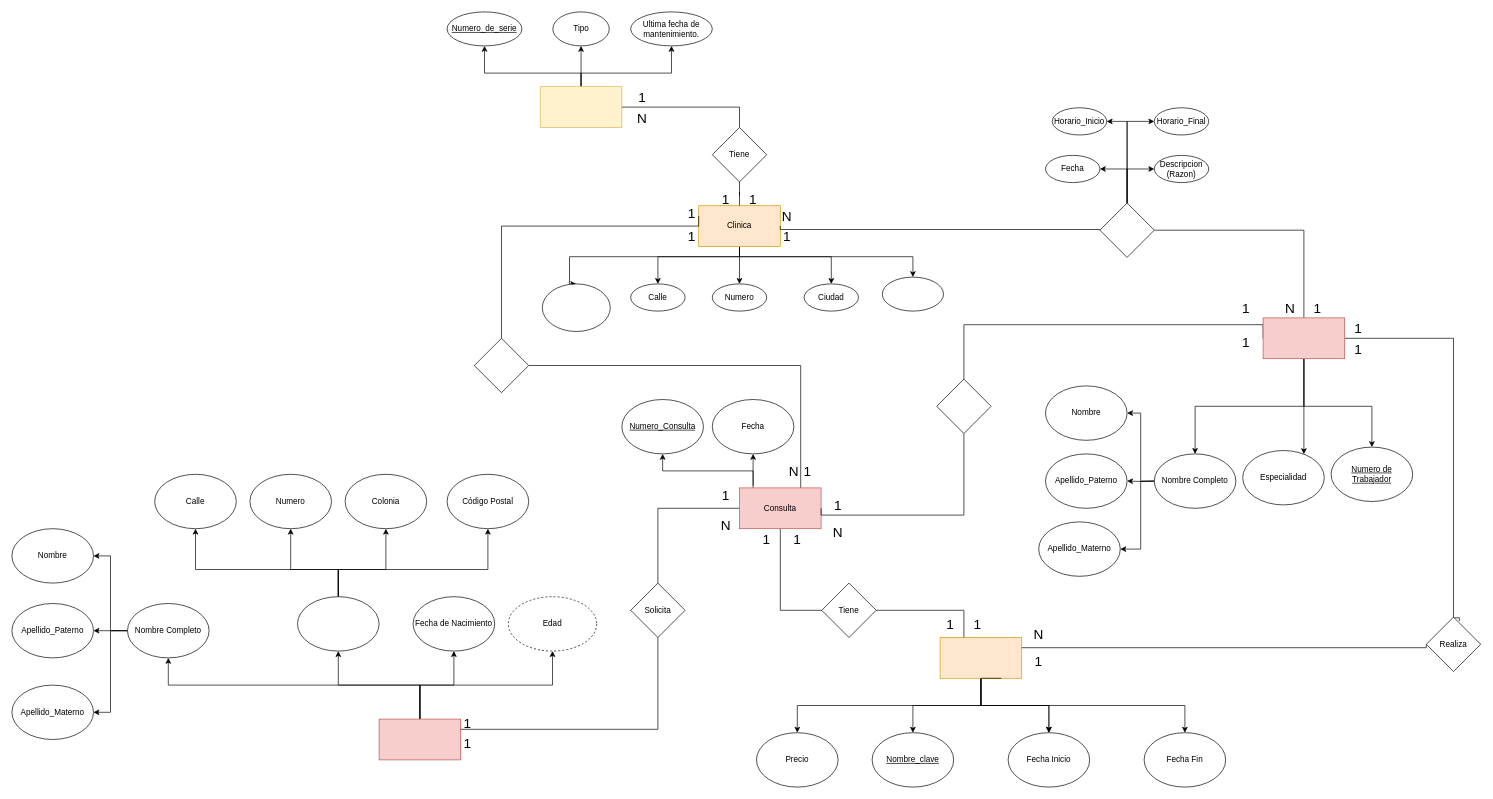
The diagram is 1493 pixels wide and 799 high, and some of its shapes have lost their labels. Here are the shapes that lost their labels. From the top down, the centre of each, then its label:
At (x=581, y=107): "Equipo".
At (x=1126, y=229): "Trabaja".
At (x=576, y=307): "Nombre_Clinica".
At (x=913, y=293): "Número de consultorios.".
At (x=1303, y=338): "Odontologo".
At (x=501, y=365): "En".
At (x=963, y=406): "Brinda".
At (x=338, y=623): "Dirección".
At (x=980, y=657): "Tratamiento".
At (x=419, y=739): "Paciente".
